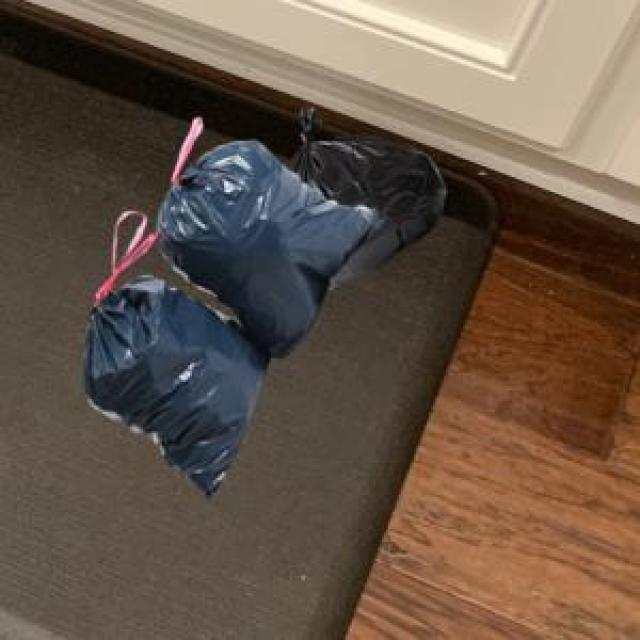waste: (85, 138, 446, 494)
